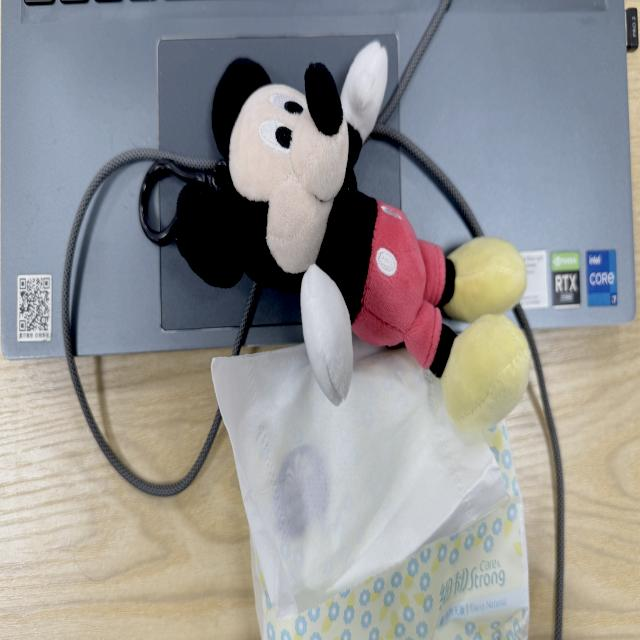mickey: (175, 43, 529, 431)
tissue: (212, 339, 530, 639)
